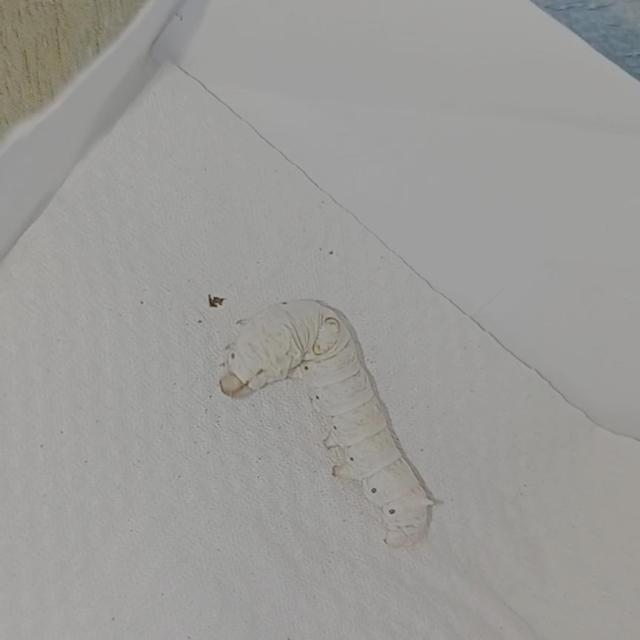Healthy: (208, 285, 441, 553)
